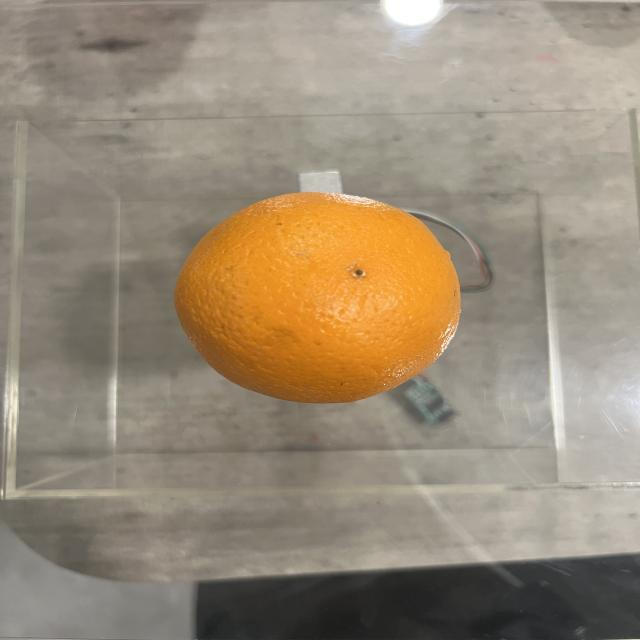orange: (178, 191, 460, 404)
